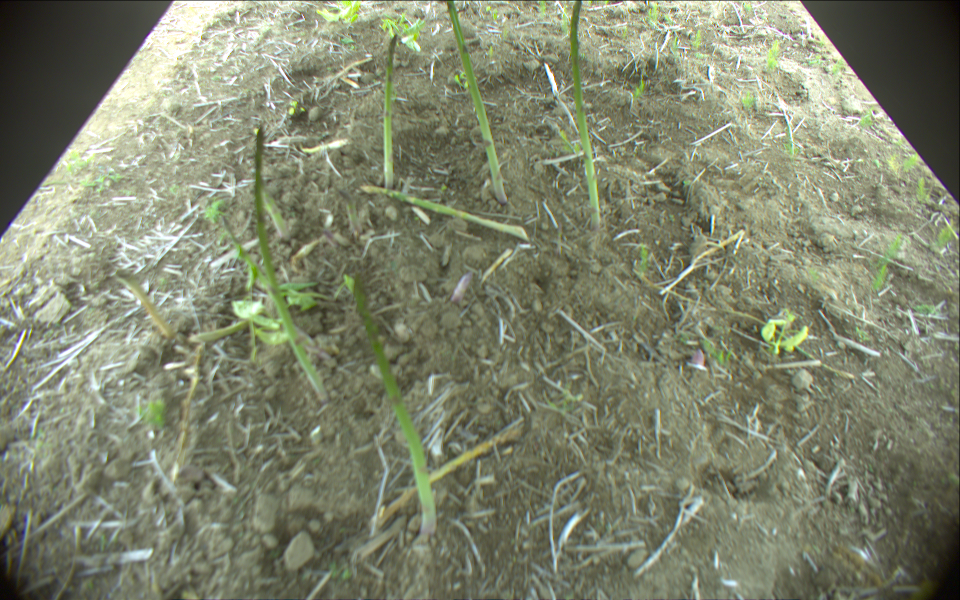aspa: (352, 274, 438, 538), (254, 126, 325, 401), (376, 424, 523, 526), (443, 1, 508, 203), (357, 184, 528, 239), (569, 1, 602, 230), (115, 265, 173, 340), (221, 216, 269, 288), (384, 30, 397, 189)
